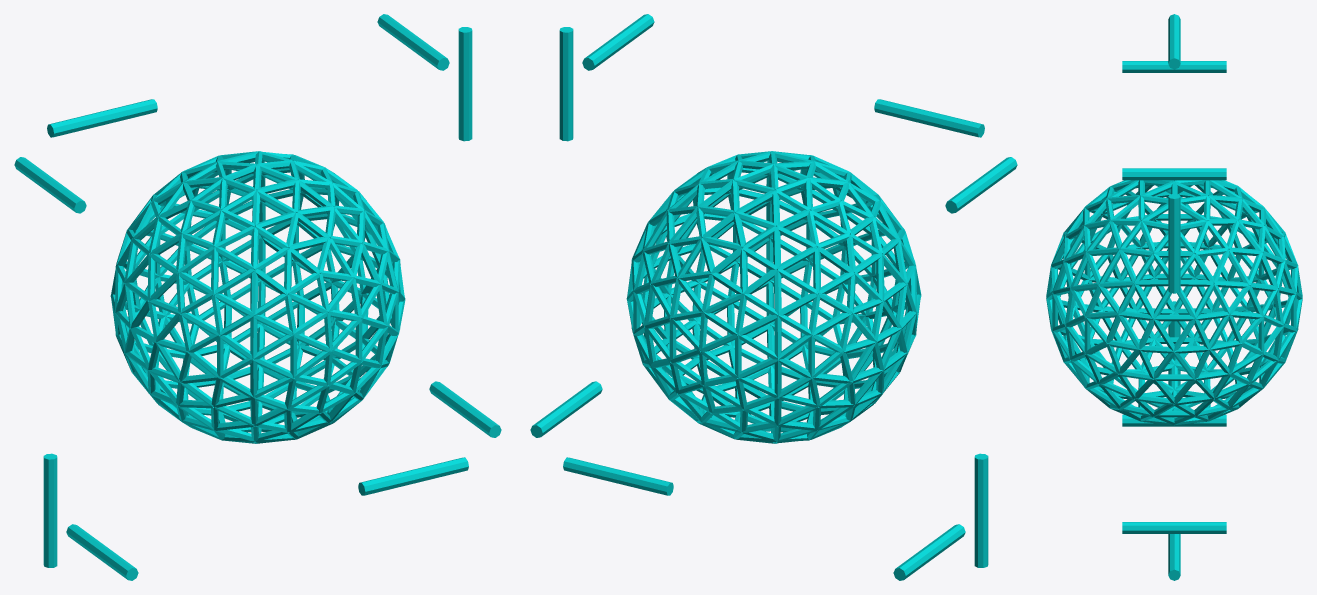
Rendered from hologram_infocus.glb.
3 renders of one model, left to right at view 1: azimuth 30°, elevation 25°; view 2: azimuth 150°, elevation 25°; view 3: azimuth 270°, elevation 25°, orthographic. The views are drawn at different scales.
Visible parts, largest first — view 1: world; view 2: world; view 3: world.
Boxes of the visible parts, x1,y1,x2,y2 form: world: (14,14,501,580); world: (530,14,1017,580); world: (1046,14,1302,580).
Bounding box in the file's own units: 1.03 × 1.03 × 0.6139.
